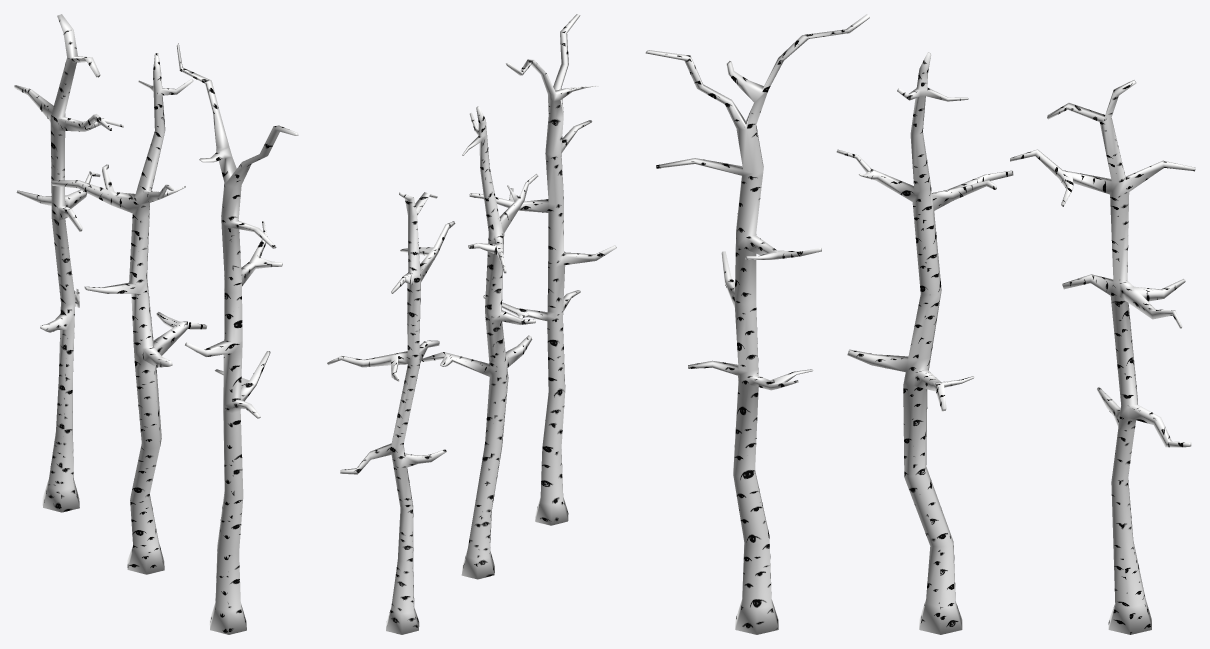
File: trees.fbx
3 views of the same model, side by side, from view 1: azimuth 30°, elevation 25°; view 2: azimuth 150°, elevation 25°; view 3: azimuth 270°, elevation 25° (orthographic). The views are drawn at different scales.
Parts seen in each view (by area): view 1: Cube, Cube.001, Cube.002; view 2: Cube, Cube.001, Cube.002; view 3: Cube, Cube.001, Cube.002.
Part boxes in pixels (x1=…): Cube: x1=176, y1=43, x2=298, y2=634; Cube.001: x1=51, y1=53, x2=206, y2=574; Cube.002: x1=14, y1=14, x2=123, y2=512; Cube: x1=469, y1=14, x2=616, y2=525; Cube.001: x1=422, y1=106, x2=538, y2=579; Cube.002: x1=327, y1=192, x2=455, y2=634; Cube: x1=645, y1=14, x2=869, y2=634; Cube.001: x1=836, y1=52, x2=1013, y2=634; Cube.002: x1=1010, y1=80, x2=1195, y2=634.
Bounding box in the file's own units: 604 × 2478 × 2024.
